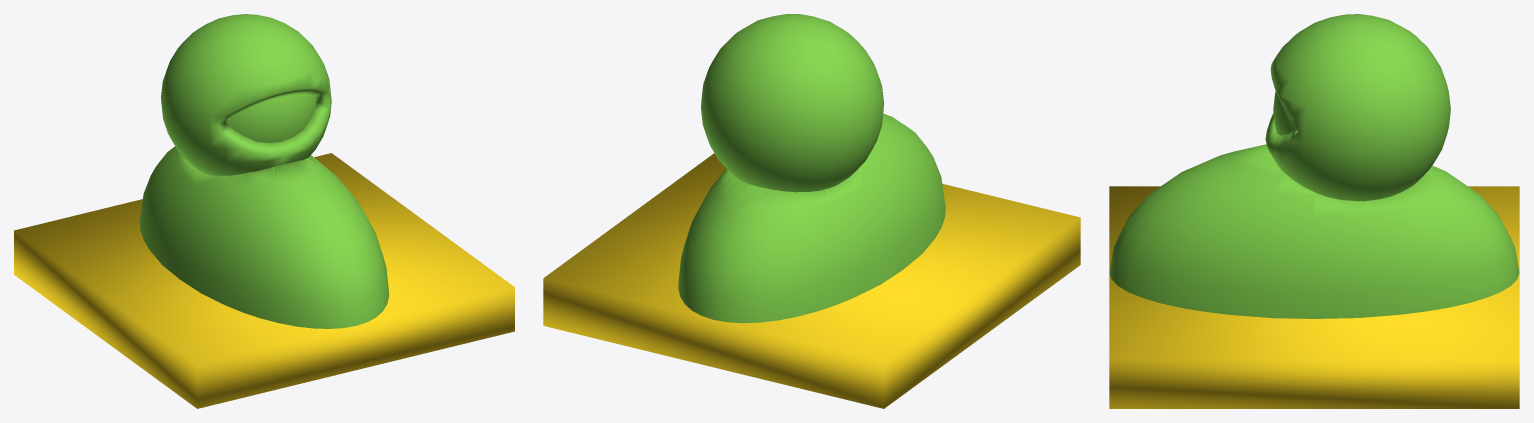
The model's file is baby_6.glb.
3 renders of one model, left to right at view 1: azimuth 30°, elevation 25°; view 2: azimuth 150°, elevation 25°; view 3: azimuth 270°, elevation 25°, orthographic. The views are drawn at different scales.
Visible parts, largest first — view 1: figura, basetta; view 2: figura, basetta; view 3: figura, basetta.
Part boxes in pixels (x1,y1,x2,y2): figura: [139, 14, 389, 328]; basetta: [14, 153, 514, 408]; figura: [678, 14, 945, 323]; basetta: [543, 153, 1080, 408]; figura: [1109, 14, 1519, 318]; basetta: [1109, 186, 1519, 408].
Bounding box in the file's own units: 0.015 × 0.0121 × 0.015.
